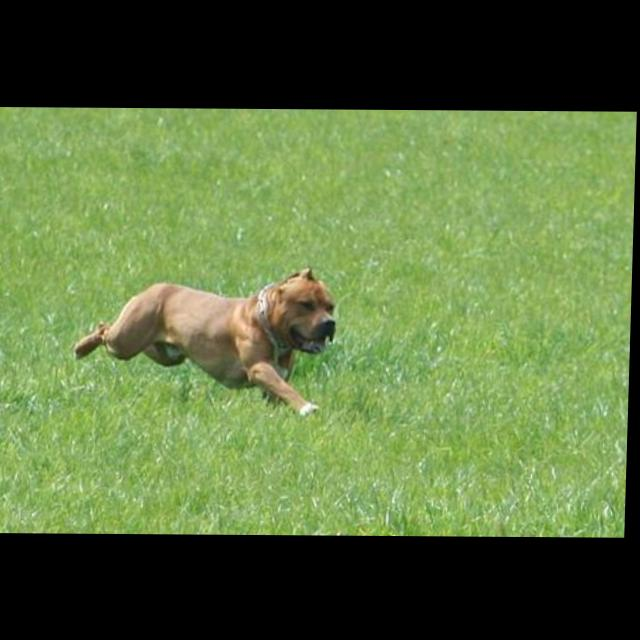staffford: (74, 265, 340, 419)
